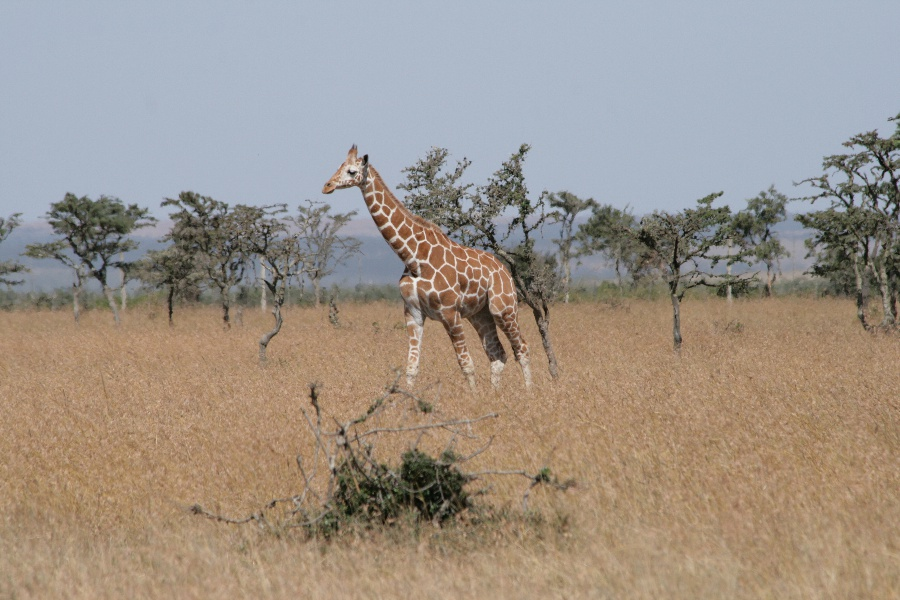giraffe: (311, 138, 549, 402)
